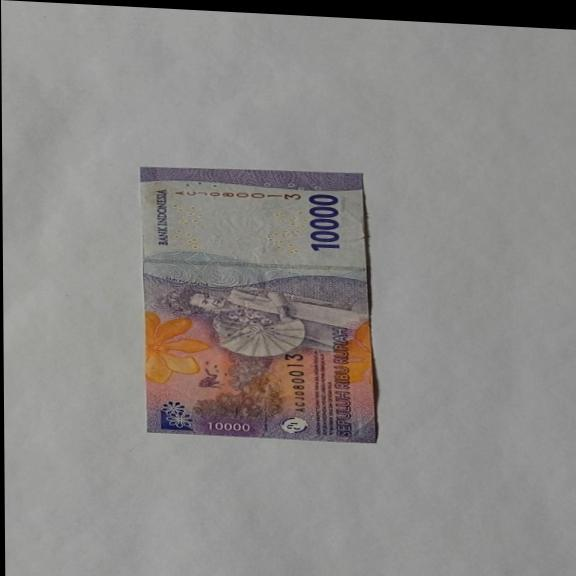Kertas: (139, 162, 379, 446), (306, 192, 343, 253)
